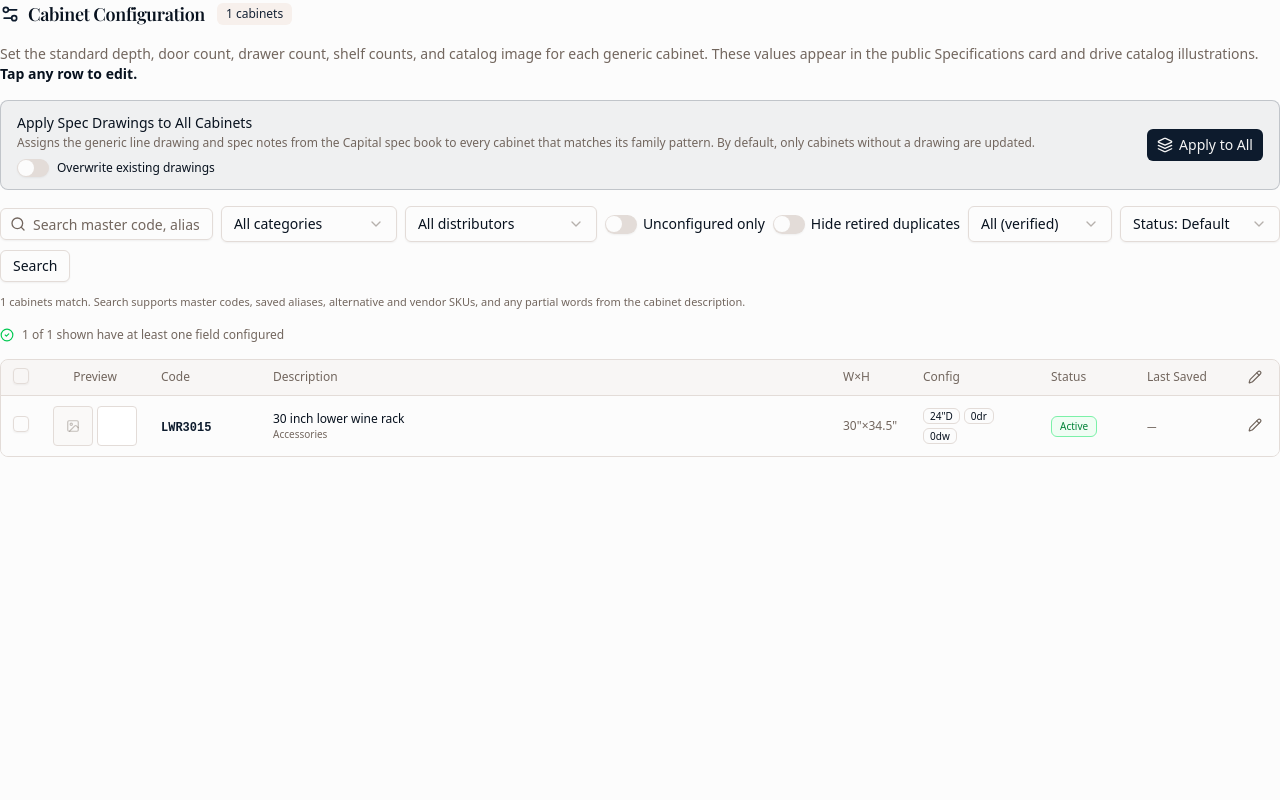
Test: Cabinet Config edit flow › renders a category option for a stored value missing from the list
Click the text "30 inch lower wine rack" at (339, 418), box [273,410,404,427]
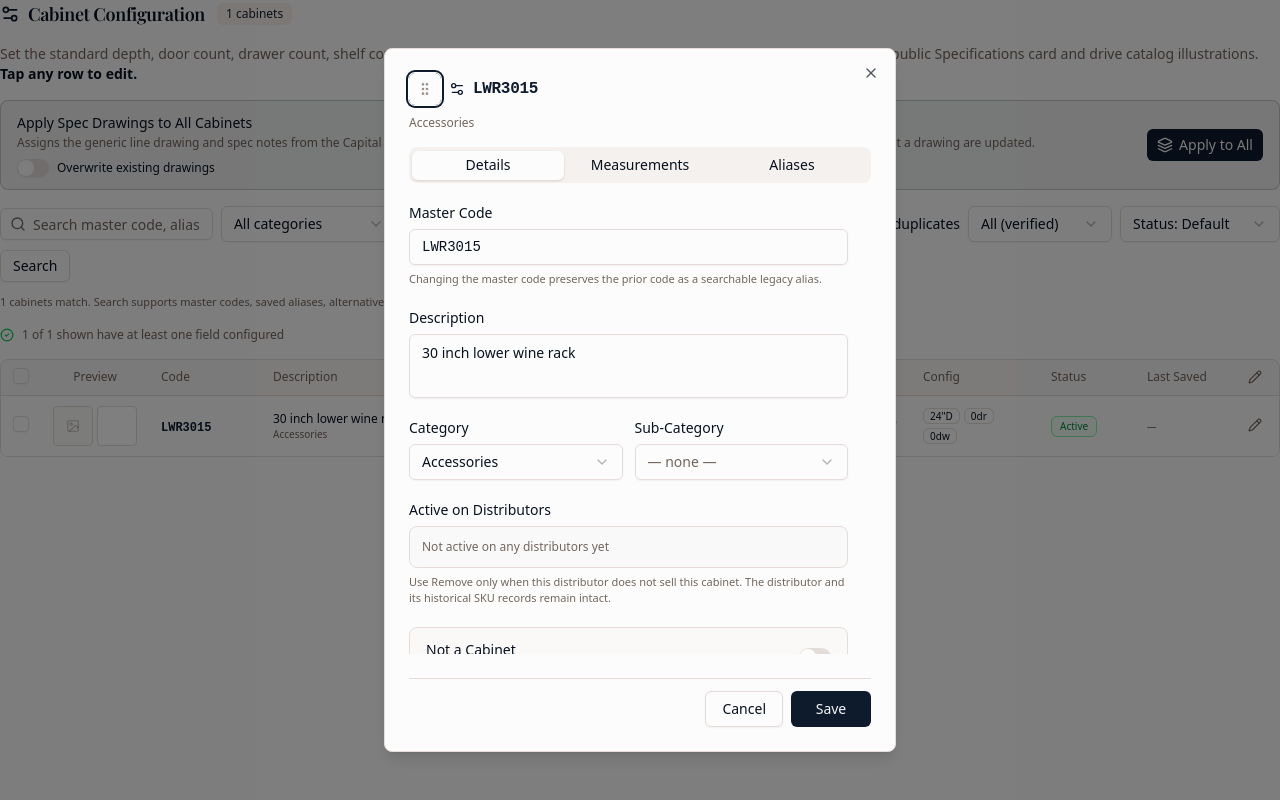
Press ArrowDown in the dropdown labelled "Accessories", box [409,444,622,480]
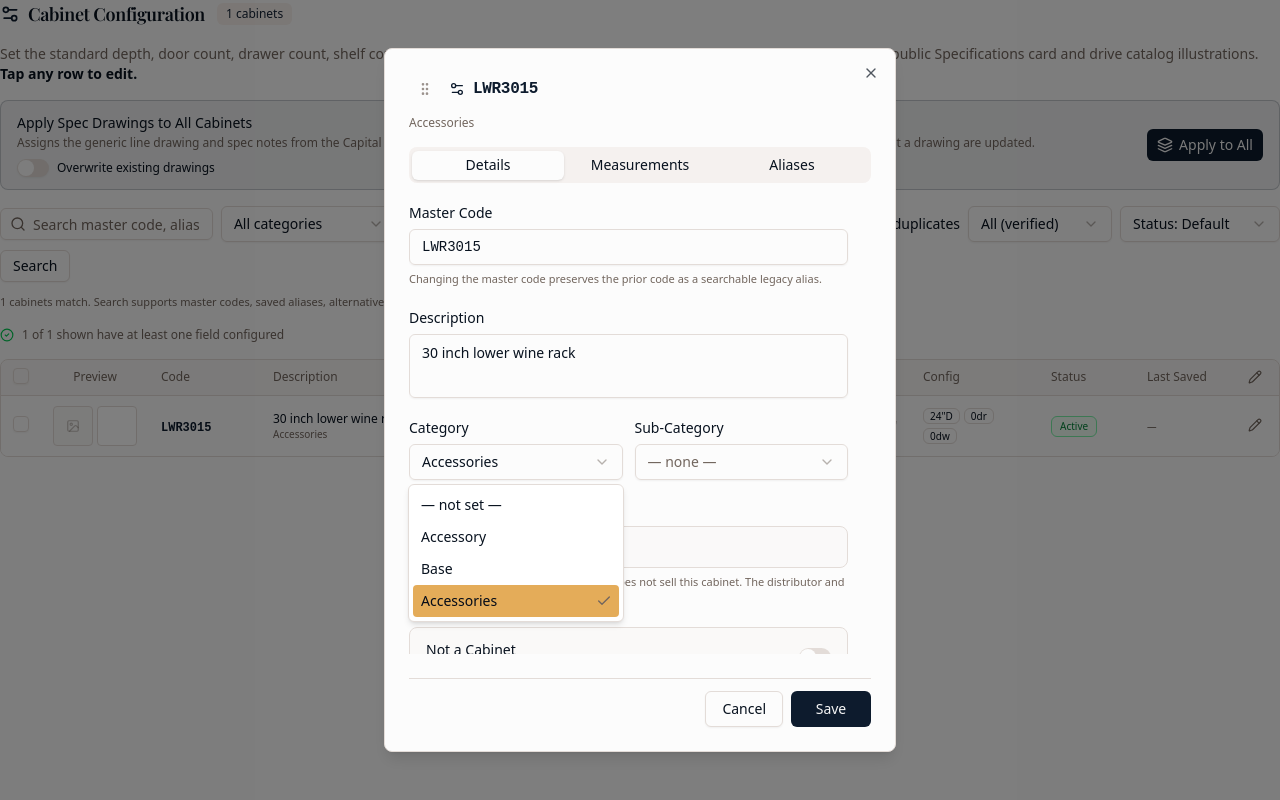
Check: the option "Accessories" is shown, box [413,585,618,617]
Check: the option "Accessory" is shown, box [421,527,486,546]
